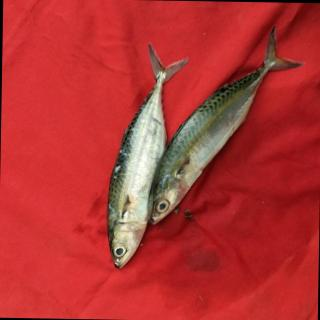Ikan: (89, 23, 310, 276)
